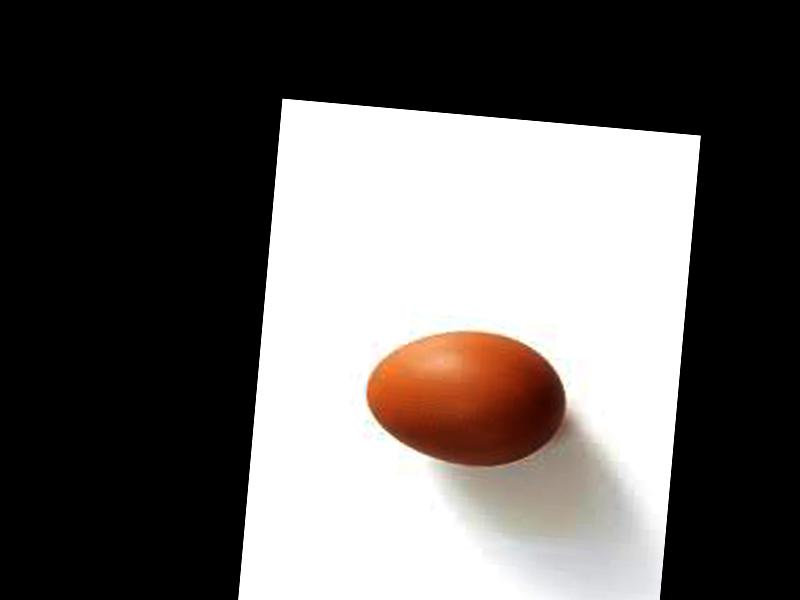Eggs: (359, 324, 570, 472)
